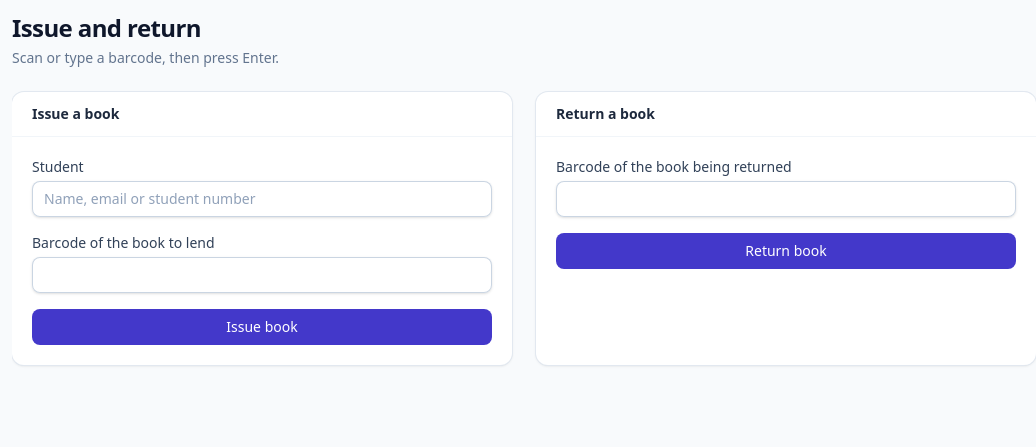
Test case: DeskPage: issuing › lends the book to the chosen student and confirms with the due date
Type "ann" into the search field labelled "Student" at (262, 199), box [32,181,492,217]
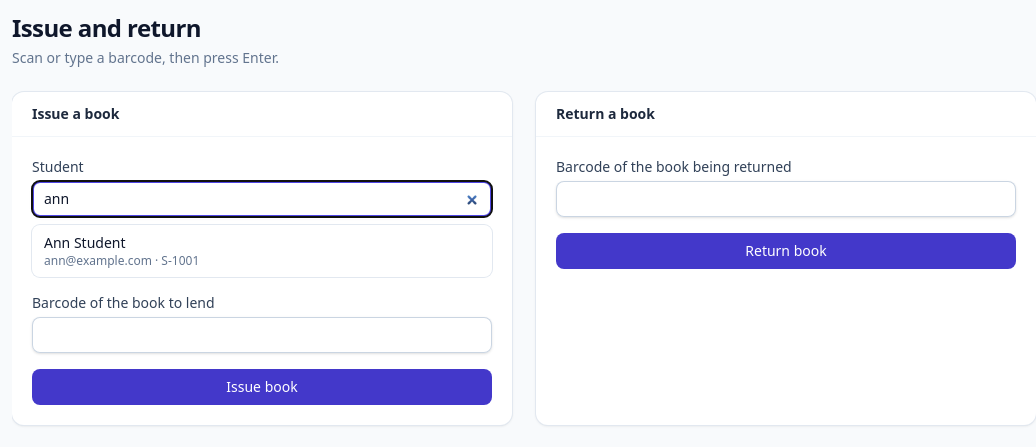
Click the button with aria-label "Select Ann Student" at (85, 242), box [32,225,492,277]
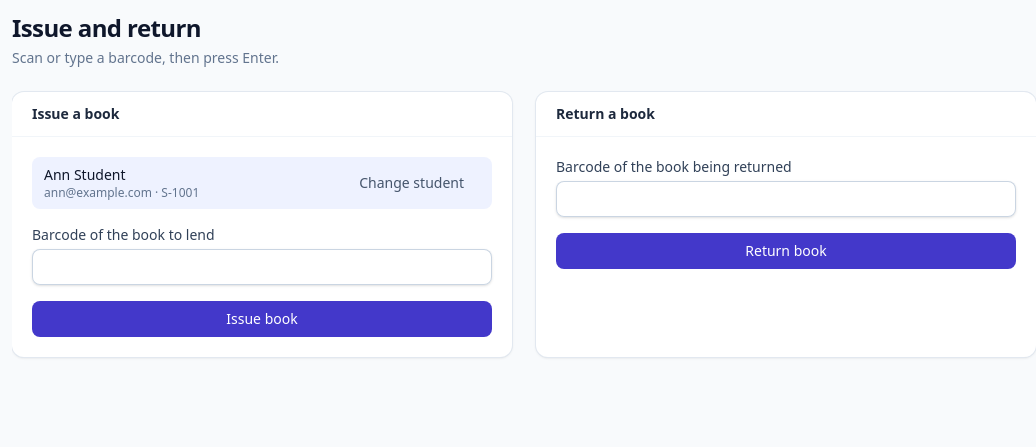
Type "CB-0001" into the field labelled "Barcode of the book to lend" at (262, 267), box [32,249,492,285]
Then press Enter
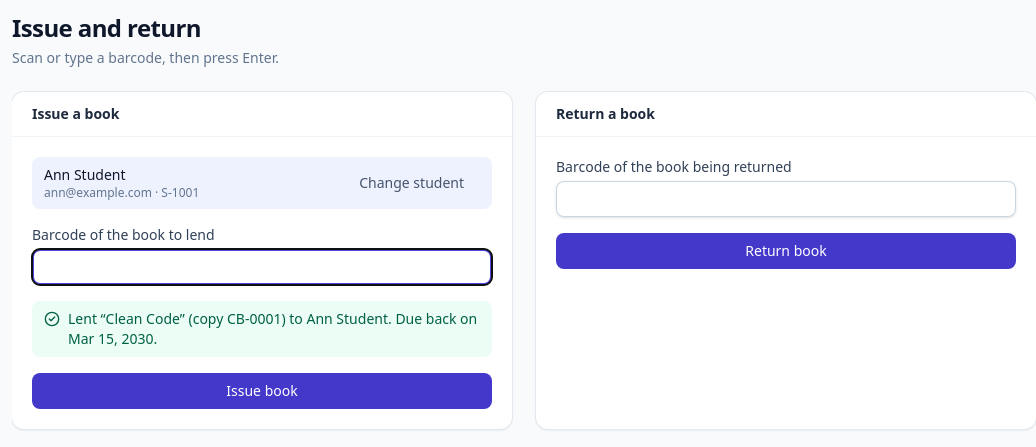
Expected: the text "Ann Student" is shown, [44,165,126,184]
Expected: the text "Lent “Clean Code” (copy CB-0001) to Ann Student. Due back on" is shown, [68,309,480,349]
